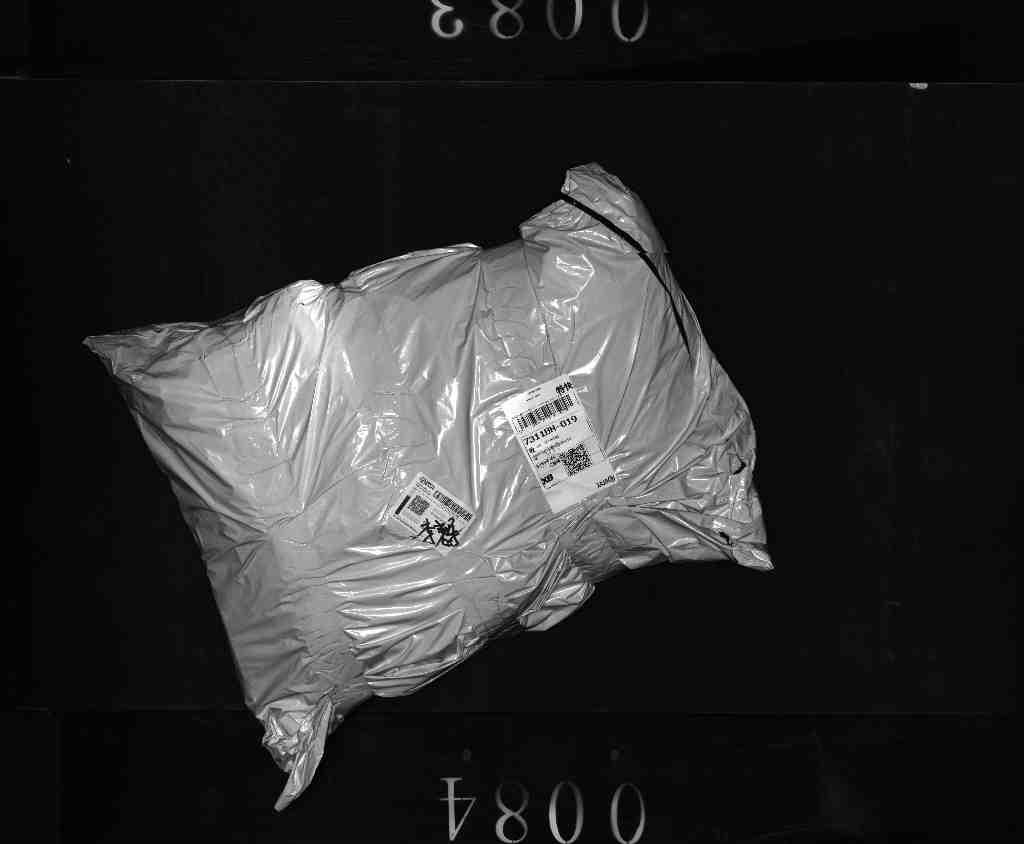box: (103, 157, 774, 789)
